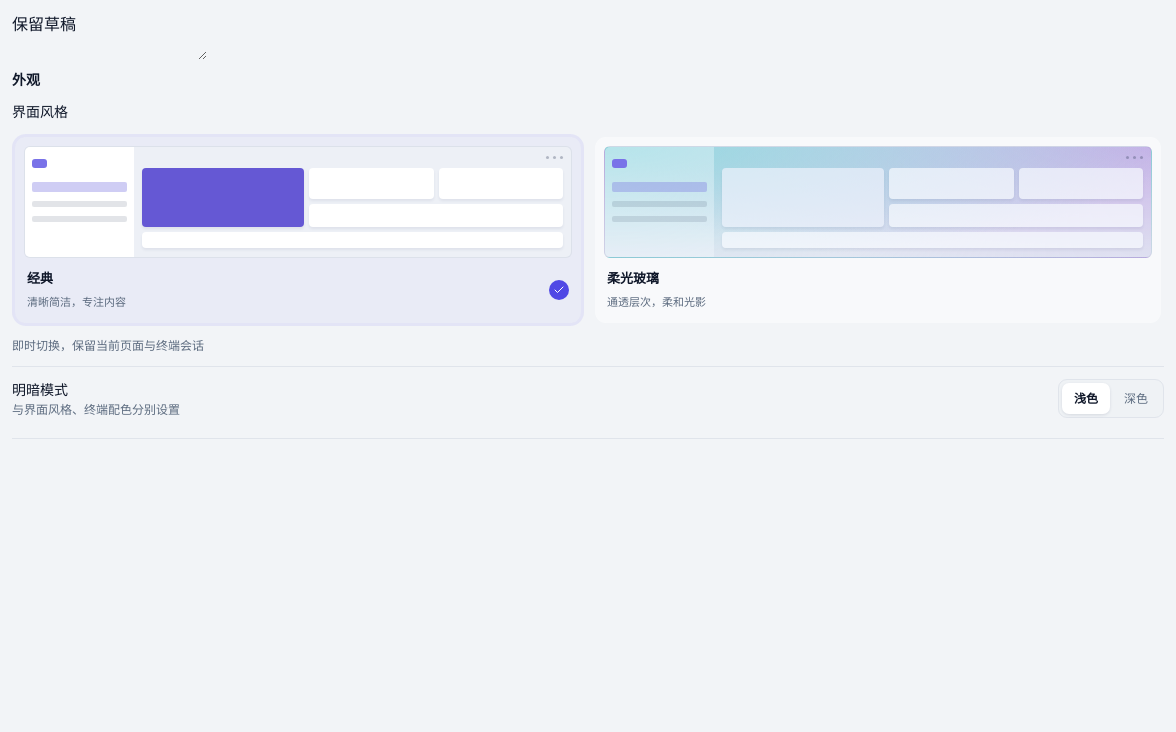
Test: 设置 → 应用 → 外观 › 存储写失败仍选中玻璃，并提示没有记住选择
The image size is (1176, 732).
What coordinates should you click on to do the following:
click the radio button labelled "柔光玻璃 通透层次，柔和光影"
I would click on:
 (878, 230)
Its box is [595,137,1161,323].
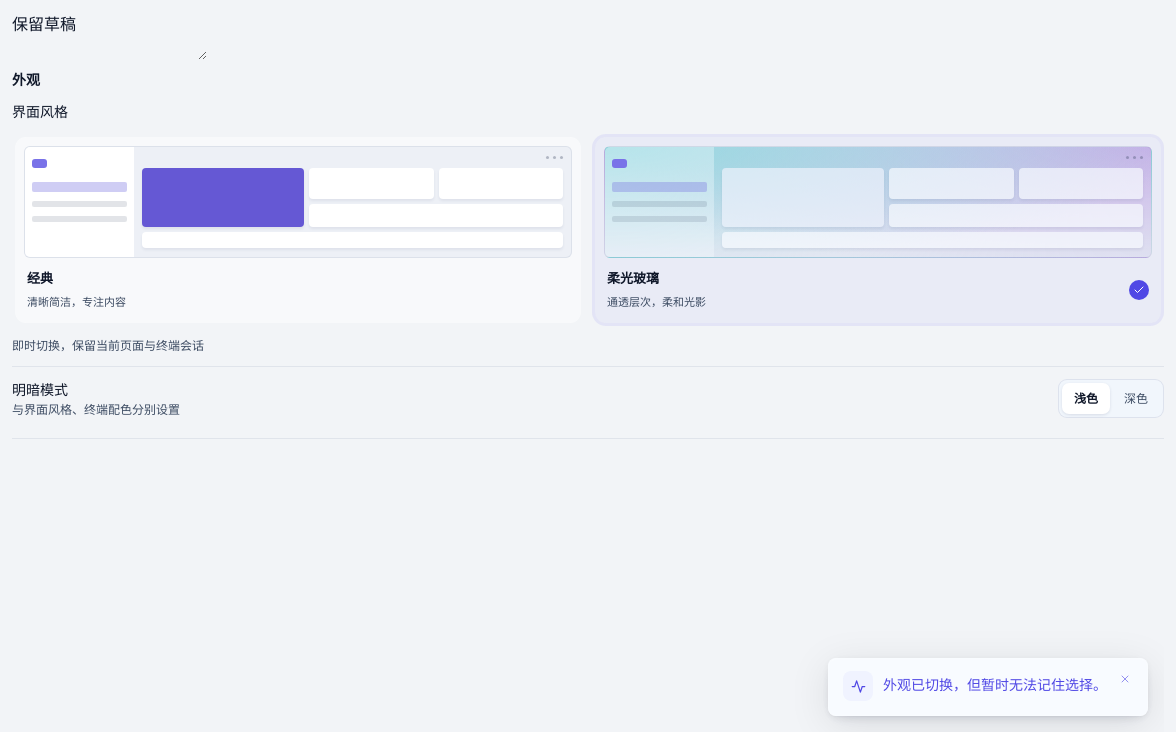
Now the text "外观已切换，但暂时无法记住选择。" is shown, box [883,671,1107,698]
